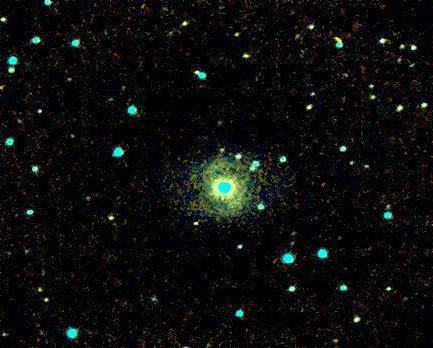star: (205, 135, 235, 165)
